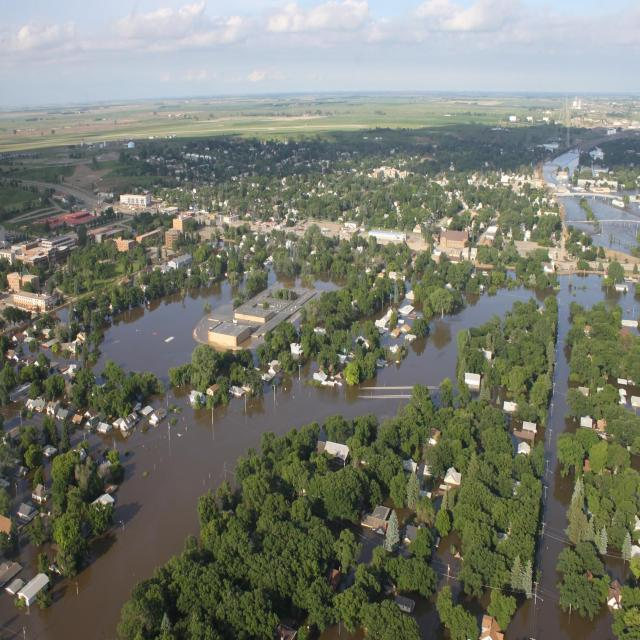flooded_areas: (0, 252, 640, 640)
